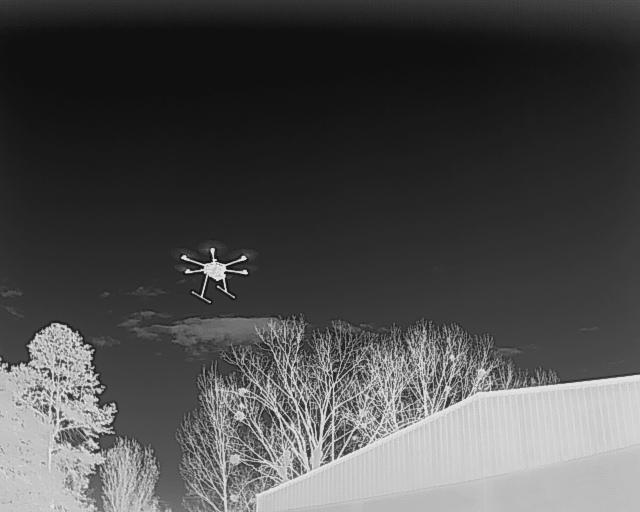drone: (173, 239, 256, 304)
